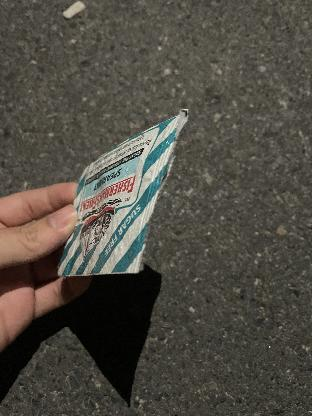Others: (44, 101, 207, 287)
